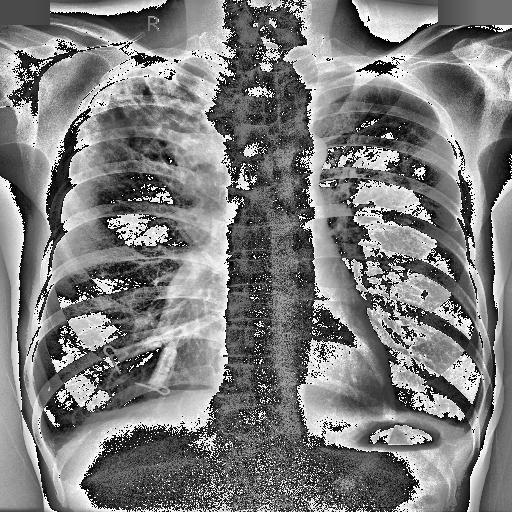10- Pleural effusion: (440, 398, 480, 441), (432, 416, 478, 452), (38, 422, 74, 466), (36, 432, 74, 471), (47, 444, 70, 466), (454, 426, 474, 436)
11- Pleural thickening: (440, 398, 480, 441), (432, 416, 478, 452), (38, 422, 74, 466), (36, 432, 74, 471), (47, 444, 70, 466), (454, 426, 474, 436)
13- Pulmonary fibrosis: (60, 56, 243, 190), (80, 52, 211, 190), (69, 61, 205, 185)
4- Consolidation: (60, 56, 243, 190), (80, 52, 211, 190)
6- Infiltration: (69, 61, 205, 185)
7- Lung Opacity: (60, 56, 243, 190)
